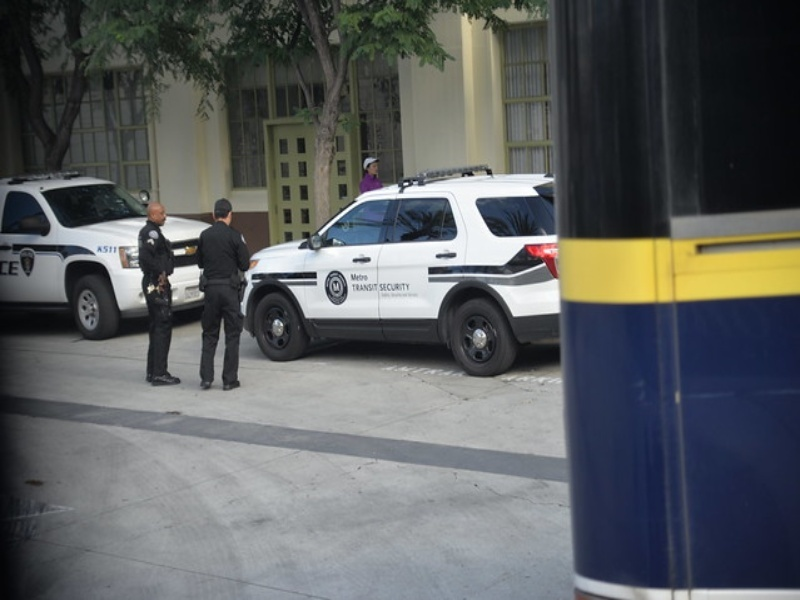policecar: (14, 117, 561, 390)
